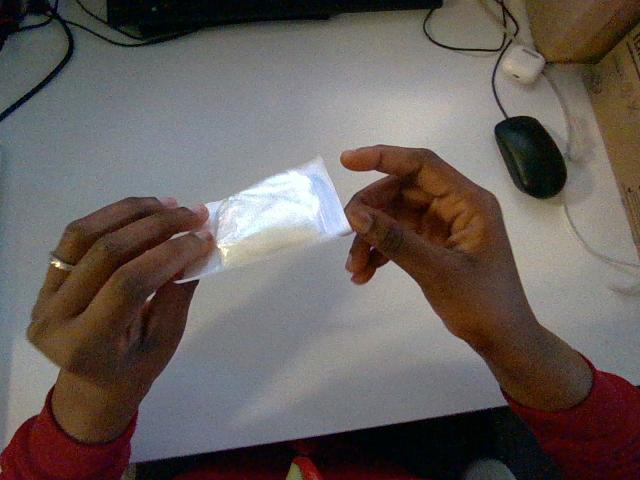gauze: (180, 157, 350, 281)
